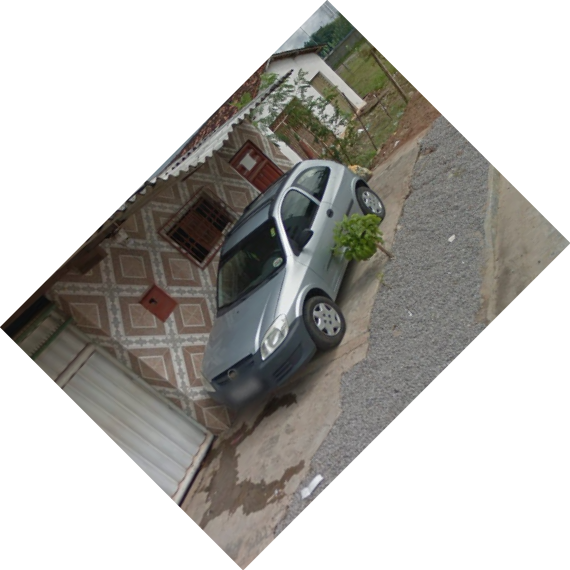car: (197, 156, 386, 418)
